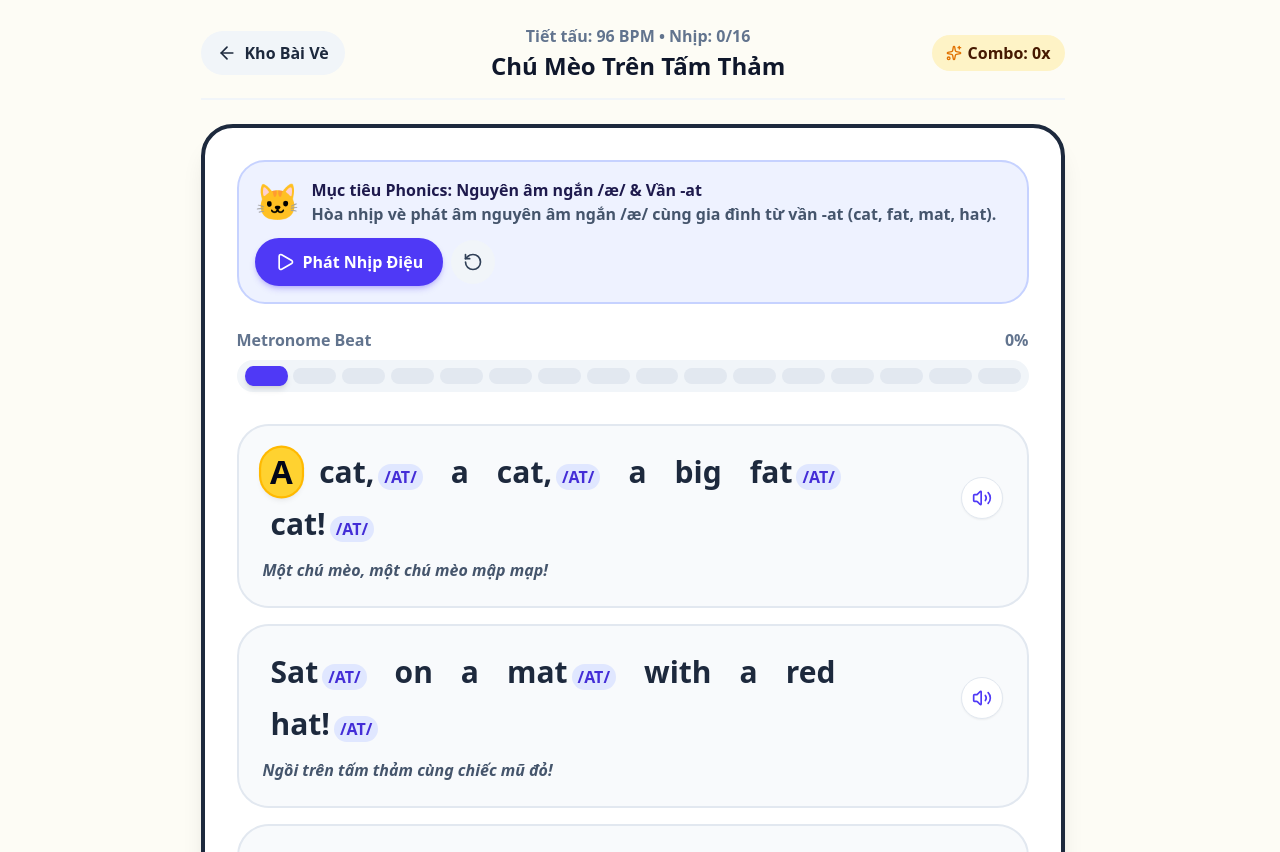
Test: KaraokeChantStudio Component › handles play toggle and rhythm tap interaction
This screenshot has width=1280, height=852.
Click the button "Phát Nhịp Điệu" at x=349, y=262, box [254, 238, 443, 286]
(page scrolled)
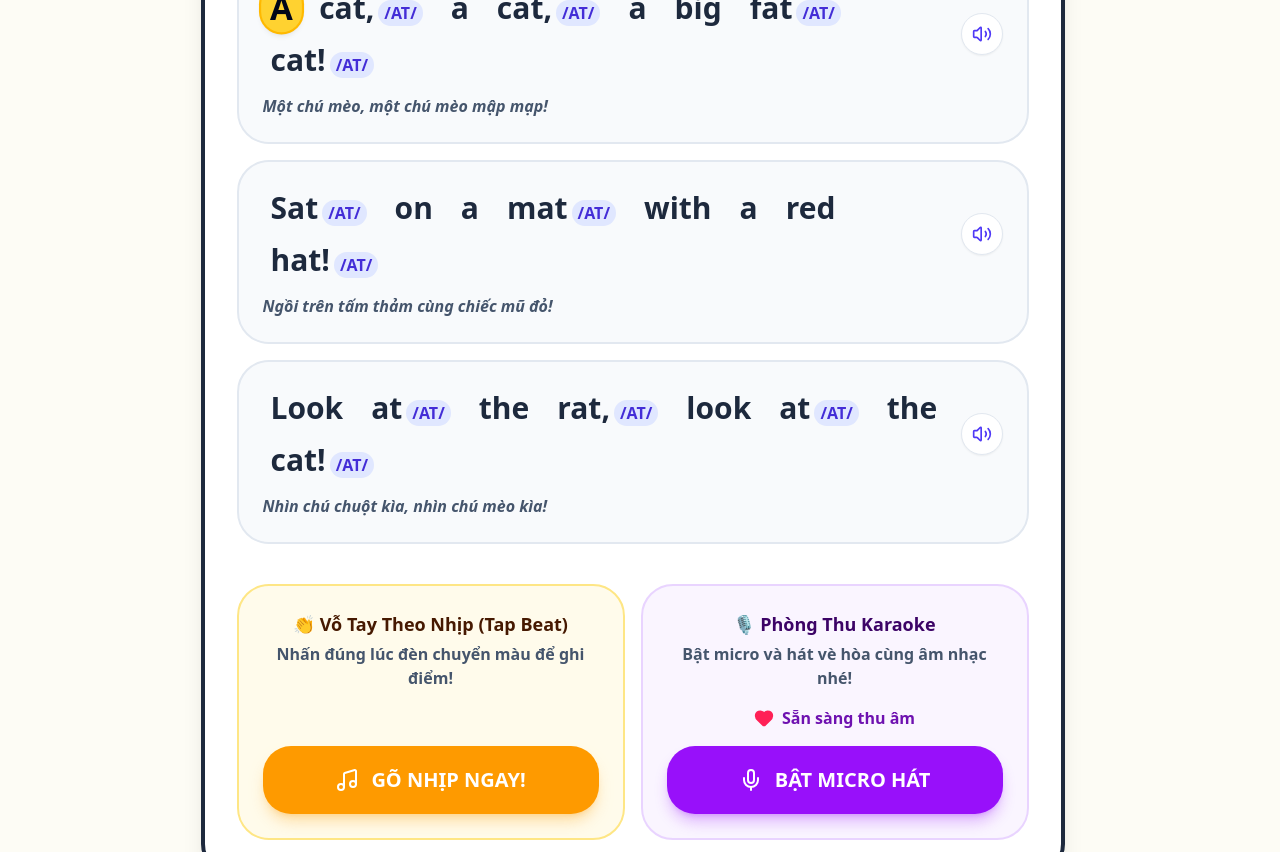
# Tap rhythm
Click the button with aria-label "vỗ tay gõ nhịp điệu" at x=430, y=780, box [262, 746, 598, 814]
(page scrolled)
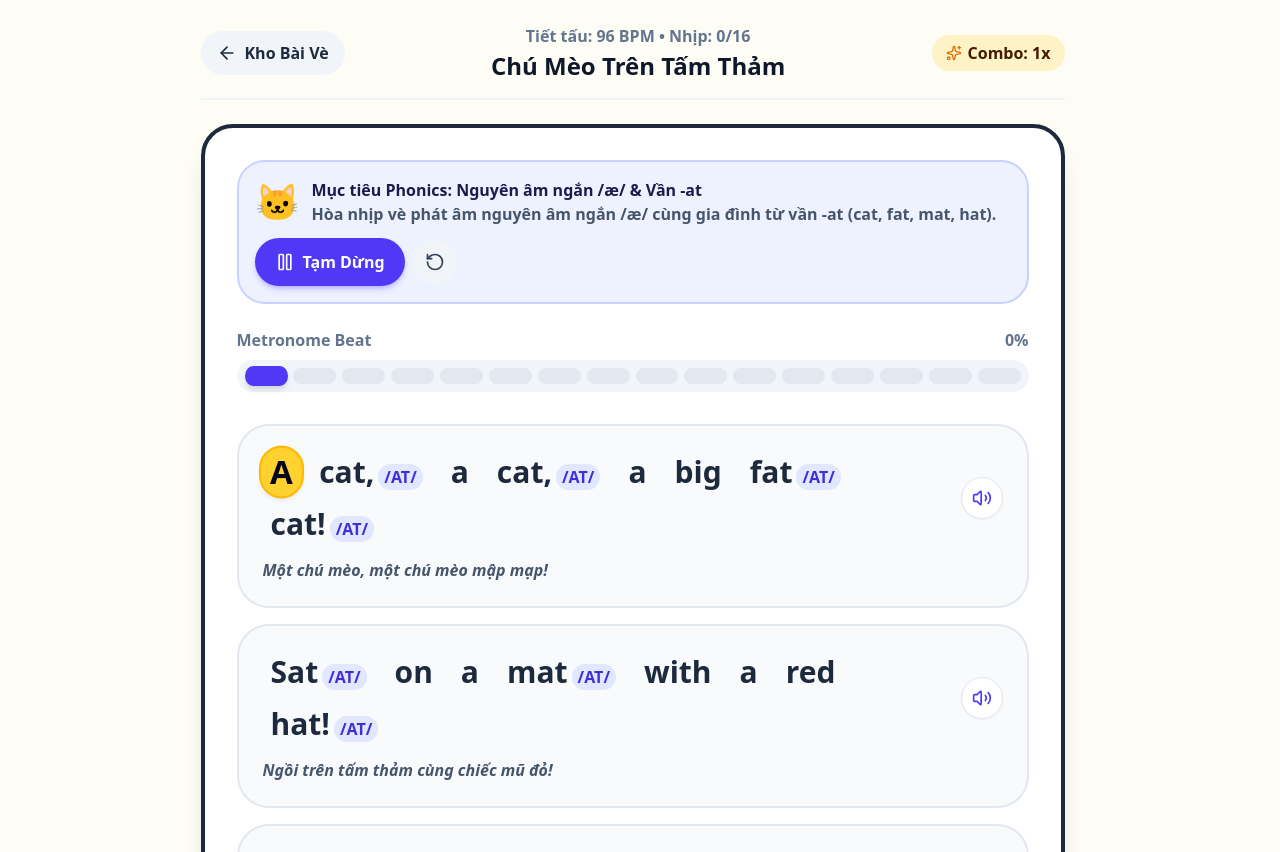
Expected: the text "Combo: 1x" is shown, [968, 41, 1050, 65]
